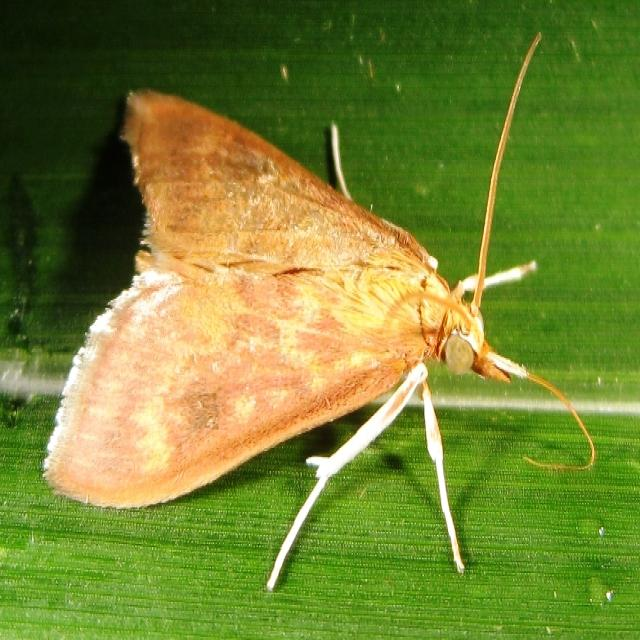cornborer-Adult-: (28, 62, 522, 550)
